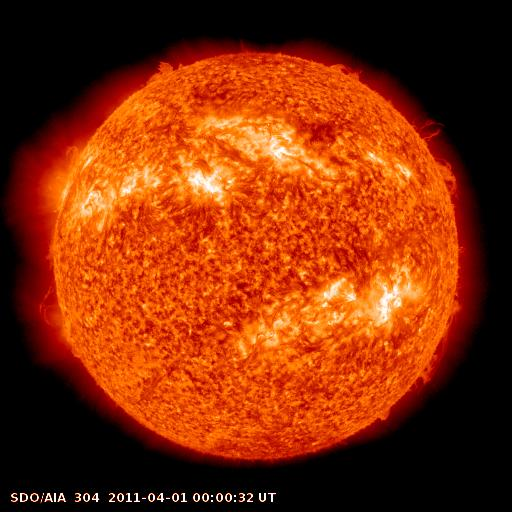prominence: (403, 242, 472, 393), (29, 225, 78, 363), (405, 105, 470, 201), (133, 52, 191, 93), (322, 50, 372, 87), (371, 397, 396, 430)
